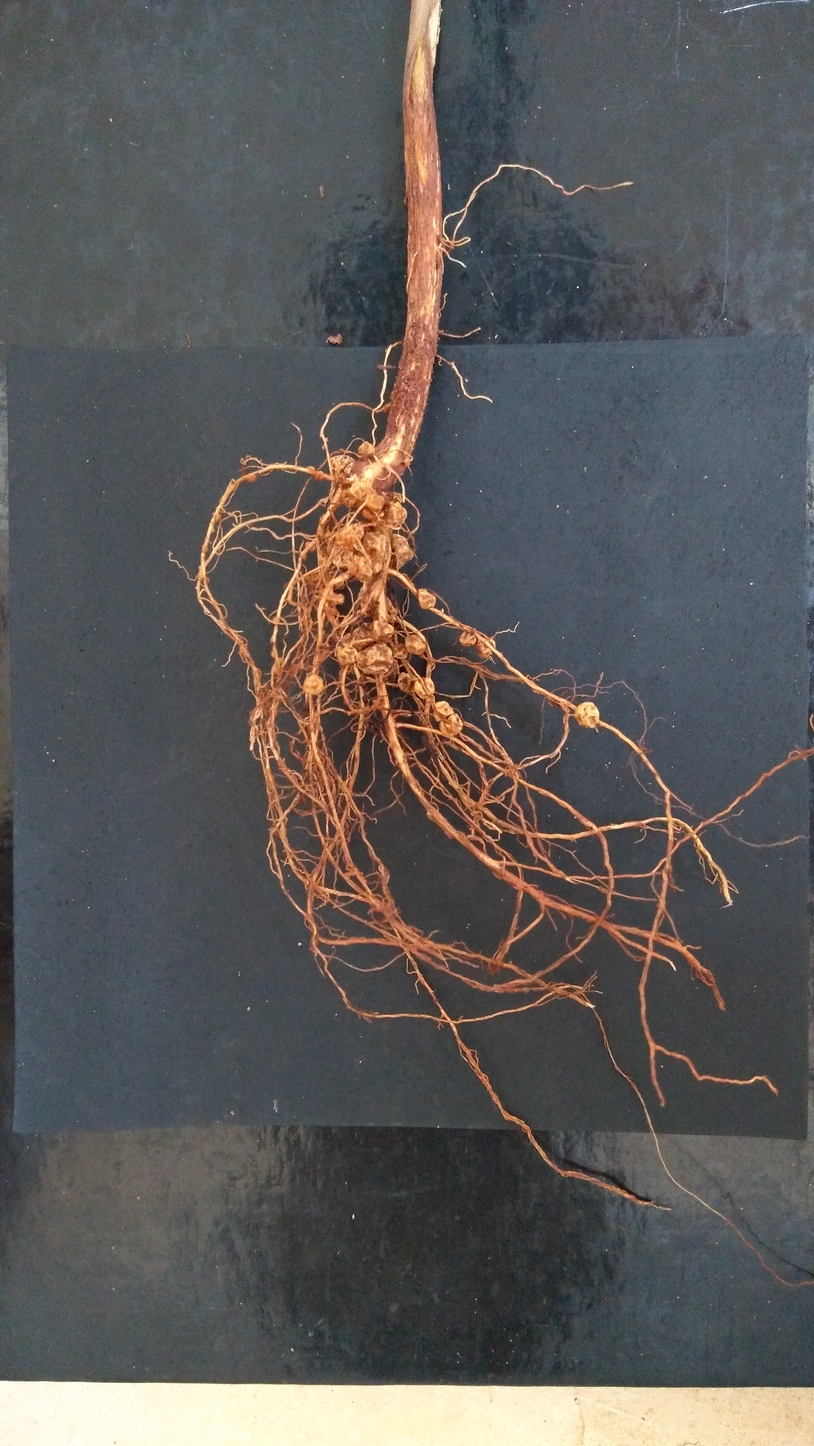nodule: (356, 642, 394, 674), (342, 623, 380, 651), (433, 701, 463, 735), (362, 531, 385, 574), (362, 704, 389, 737), (391, 533, 414, 569), (303, 747, 331, 774), (347, 555, 373, 581), (575, 702, 599, 728), (331, 455, 355, 480), (336, 643, 360, 665), (386, 502, 407, 527), (336, 526, 356, 552), (405, 634, 426, 655), (398, 672, 419, 693), (322, 569, 344, 589), (414, 677, 434, 699), (303, 675, 324, 695), (476, 637, 495, 659), (376, 622, 394, 644), (359, 587, 372, 617), (418, 588, 436, 609), (383, 596, 398, 621), (321, 588, 344, 604), (365, 493, 385, 511), (332, 551, 353, 568), (341, 489, 358, 508), (459, 630, 477, 647), (351, 481, 367, 499), (392, 642, 408, 659), (358, 442, 375, 455), (361, 509, 378, 520), (305, 541, 315, 552), (314, 471, 323, 480), (272, 616, 280, 625), (247, 475, 257, 482), (300, 551, 306, 561), (405, 455, 410, 467), (202, 544, 208, 553), (306, 466, 315, 472), (215, 514, 220, 521), (211, 520, 215, 524), (211, 528, 214, 533)
